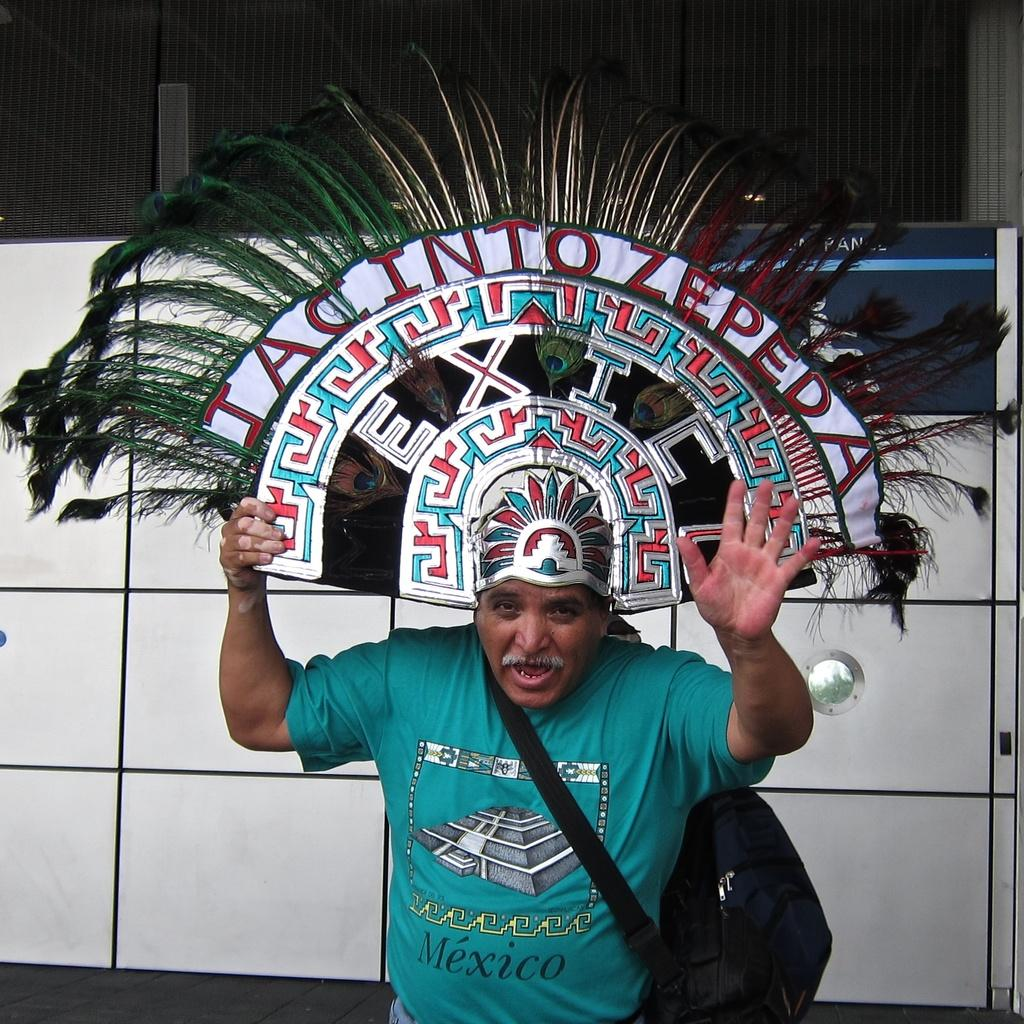Luggage-and-bags: (476, 634, 836, 1023)
